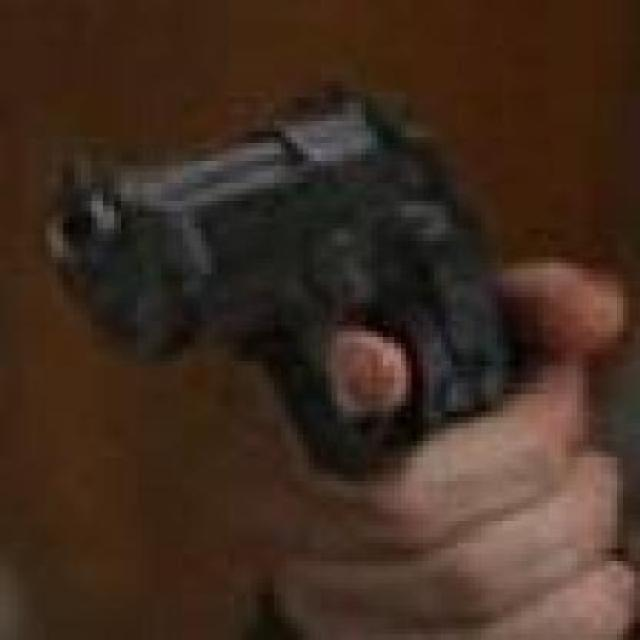rifle: (41, 74, 555, 445)
